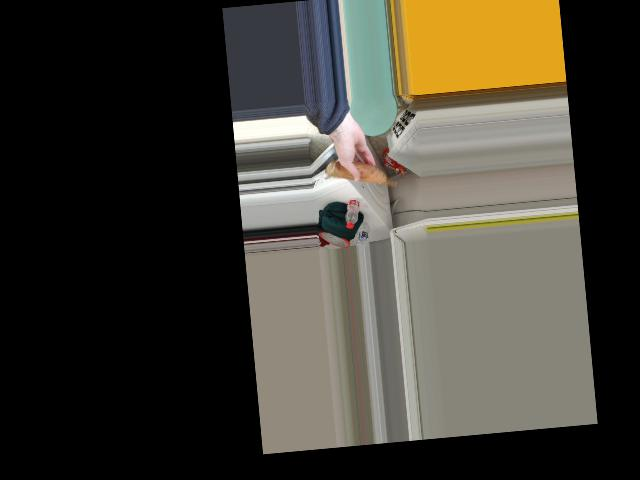sweet_potato: (328, 153, 394, 194)
